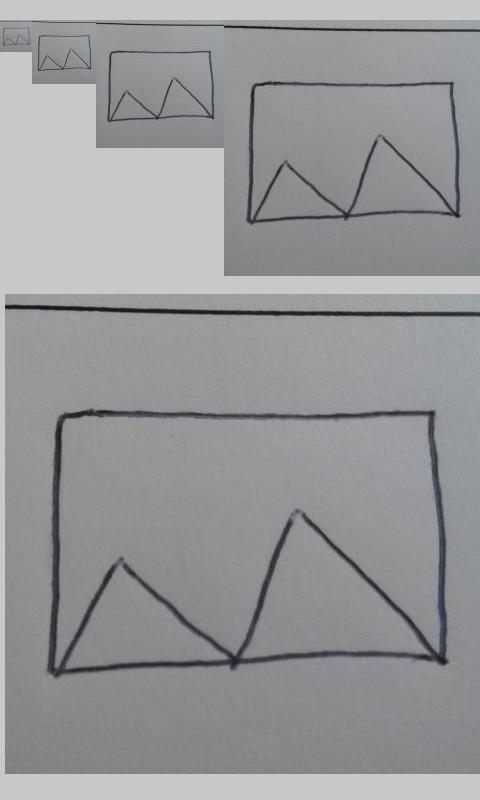image_view: (48, 406, 453, 678), (246, 78, 463, 226), (107, 50, 214, 122), (37, 34, 92, 71), (2, 27, 30, 47)
